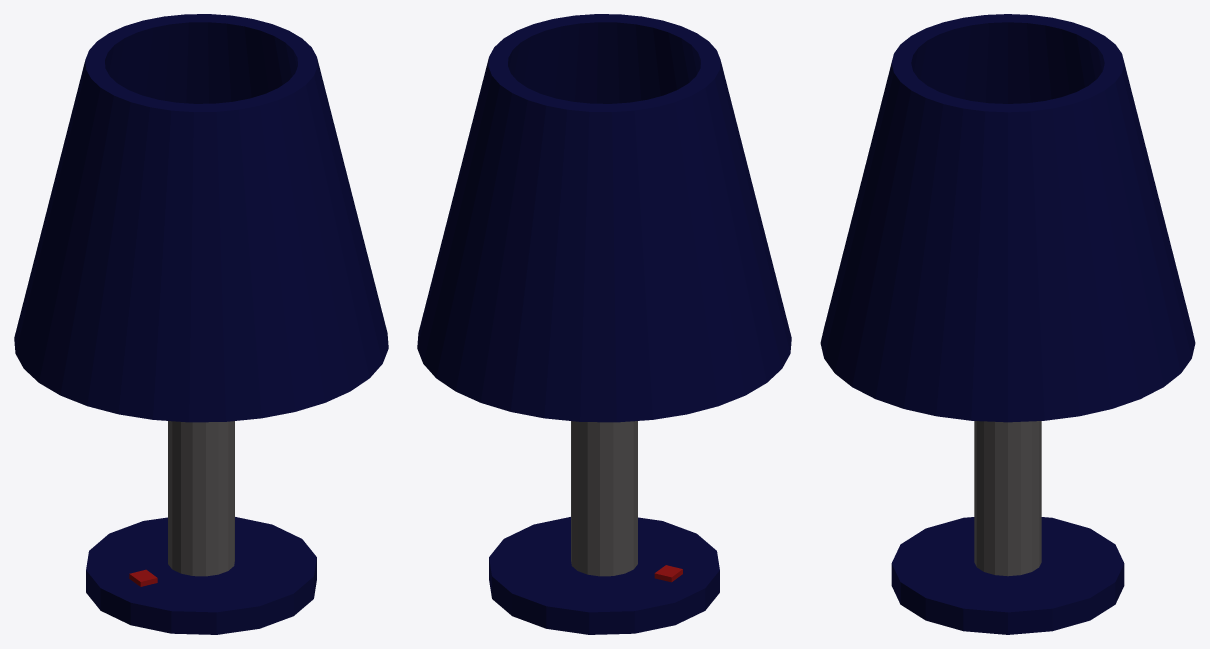
File: lamp.glb
3 views of the same model, side by side, from view 1: azimuth 30°, elevation 25°; view 2: azimuth 150°, elevation 25°; view 3: azimuth 270°, elevation 25° (orthographic).
Visible parts, largest first — view 1: Цилиндр, Цилиндр.002, Цилиндр.001; view 2: Цилиндр, Цилиндр.002, Цилиндр.001; view 3: Цилиндр, Цилиндр.002, Цилиндр.001.
Boxes of the visible parts, box(x1,y1,x2,y2) form: Цилиндр: box(14, 14, 388, 422); Цилиндр.002: box(86, 517, 316, 634); Цилиндр.001: box(168, 421, 234, 576); Цилиндр: box(417, 14, 791, 422); Цилиндр.002: box(489, 517, 719, 634); Цилиндр.001: box(571, 421, 637, 576); Цилиндр: box(820, 14, 1195, 422); Цилиндр.002: box(891, 517, 1124, 634); Цилиндр.001: box(974, 421, 1041, 576).
Size of the model in its own units: 2 by 3.08 by 2.
